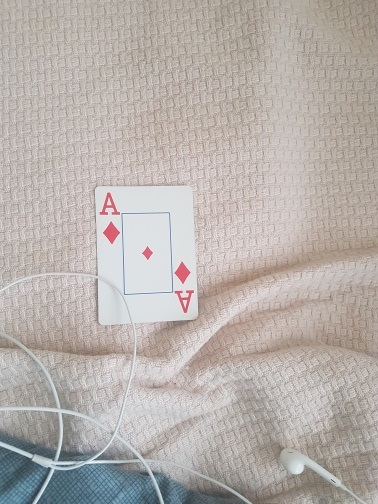ace: (99, 184, 200, 321)
